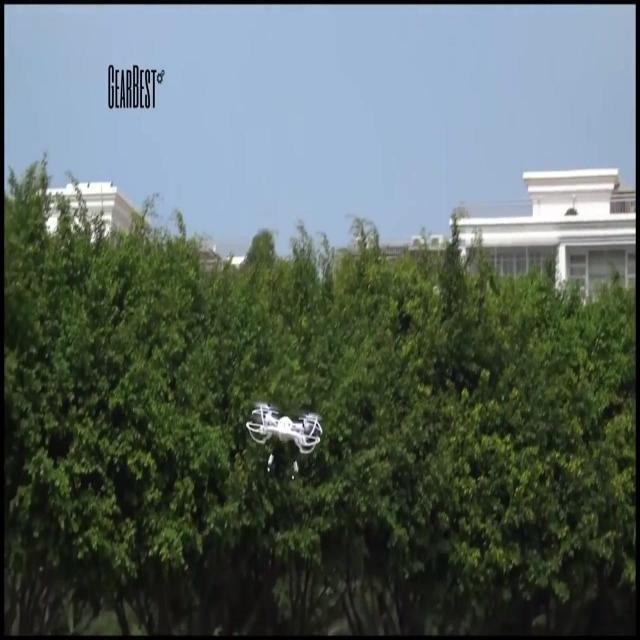UAV: (246, 403, 322, 479)
